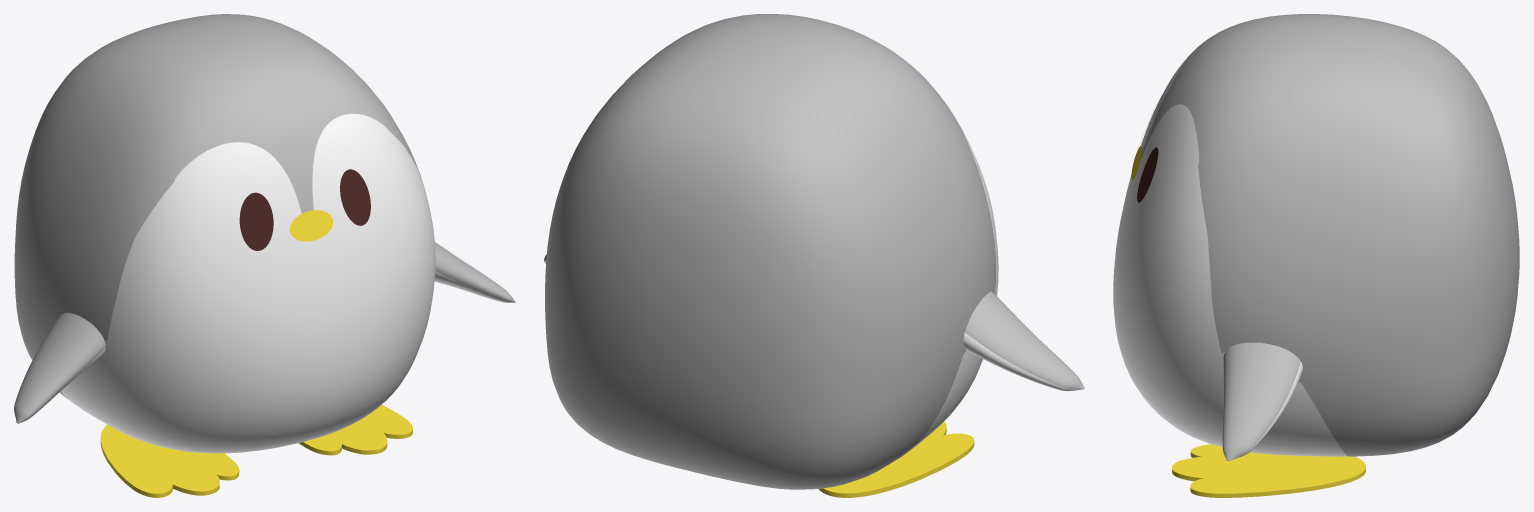
Rendered from penguin.dae.
3 views of the same model, side by side, from view 1: azimuth 30°, elevation 25°; view 2: azimuth 150°, elevation 25°; view 3: azimuth 270°, elevation 25° (orthographic). The views are drawn at different scales.
Parts seen in each view (by area): view 1: 对称.1, 封顶_1, 放样.1, 圆盘, 挤压, nose; view 2: 对称.1, 放样.1, 封顶_1, 挤压; view 3: 对称.1, 放样.1, 封顶_1, 挤压, 圆盘.
Part boxes in pixels (x1,y1,x2,y2): 对称.1: (14,14,435,453); 封顶_1: (100,404,412,493); 放样.1: (14,242,515,423); 圆盘: (239,169,370,250); 挤压: (100,429,412,497); nose: (289,210,333,241); 对称.1: (545,14,998,489); 放样.1: (544,254,1084,391); 封顶_1: (823,421,974,493); 挤压: (818,428,974,497); 对称.1: (1113,14,1519,456); 放样.1: (1222,342,1302,460); 封顶_1: (1172,444,1365,493); 挤压: (1172,452,1365,497); 圆盘: (1137,110,1158,202).
Bounding box in the file's own units: 25.07 × 18.48 × 17.3.
Materials: 4 (2 with a texture image).
